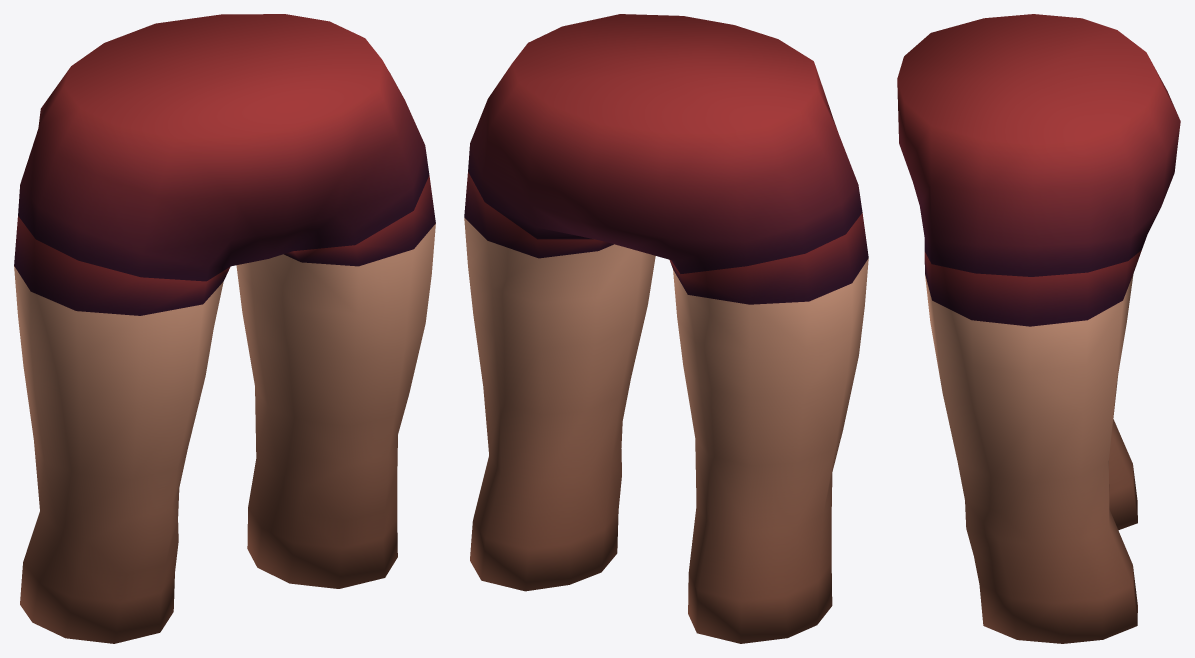
The model's file is Equip_Pants_02_3.FBX.
3 views of the same model, side by side, from view 1: azimuth 30°, elevation 25°; view 2: azimuth 150°, elevation 25°; view 3: azimuth 270°, elevation 25° (orthographic). The views are drawn at different scales.
Visible parts, largest first — view 1: Equip_Pants_02_3; view 2: Equip_Pants_02_3; view 3: Equip_Pants_02_3.
Part boxes in pixels (x1=…): Equip_Pants_02_3: x1=14, y1=14, x2=435, y2=643; Equip_Pants_02_3: x1=464, y1=14, x2=868, y2=643; Equip_Pants_02_3: x1=897, y1=14, x2=1180, y2=643.
Size of the model in its own units: 23.64 by 30.19 by 15.99.
